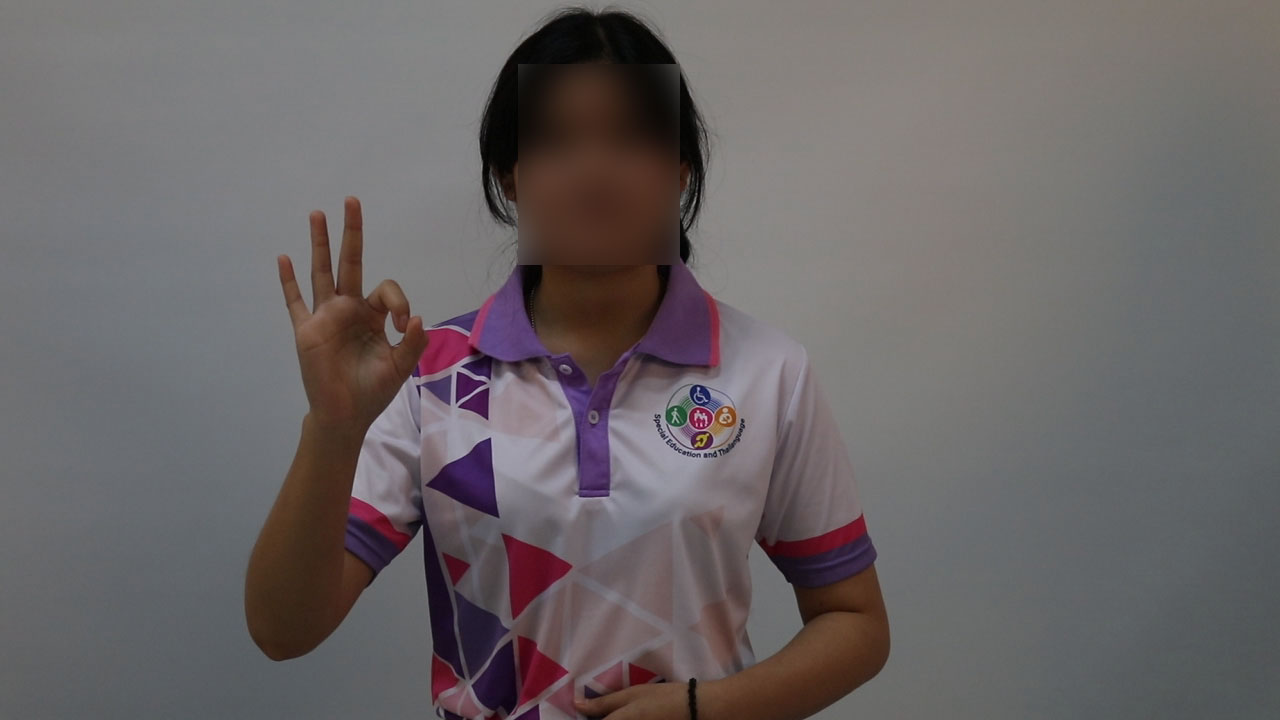for: (273, 182, 433, 451)
